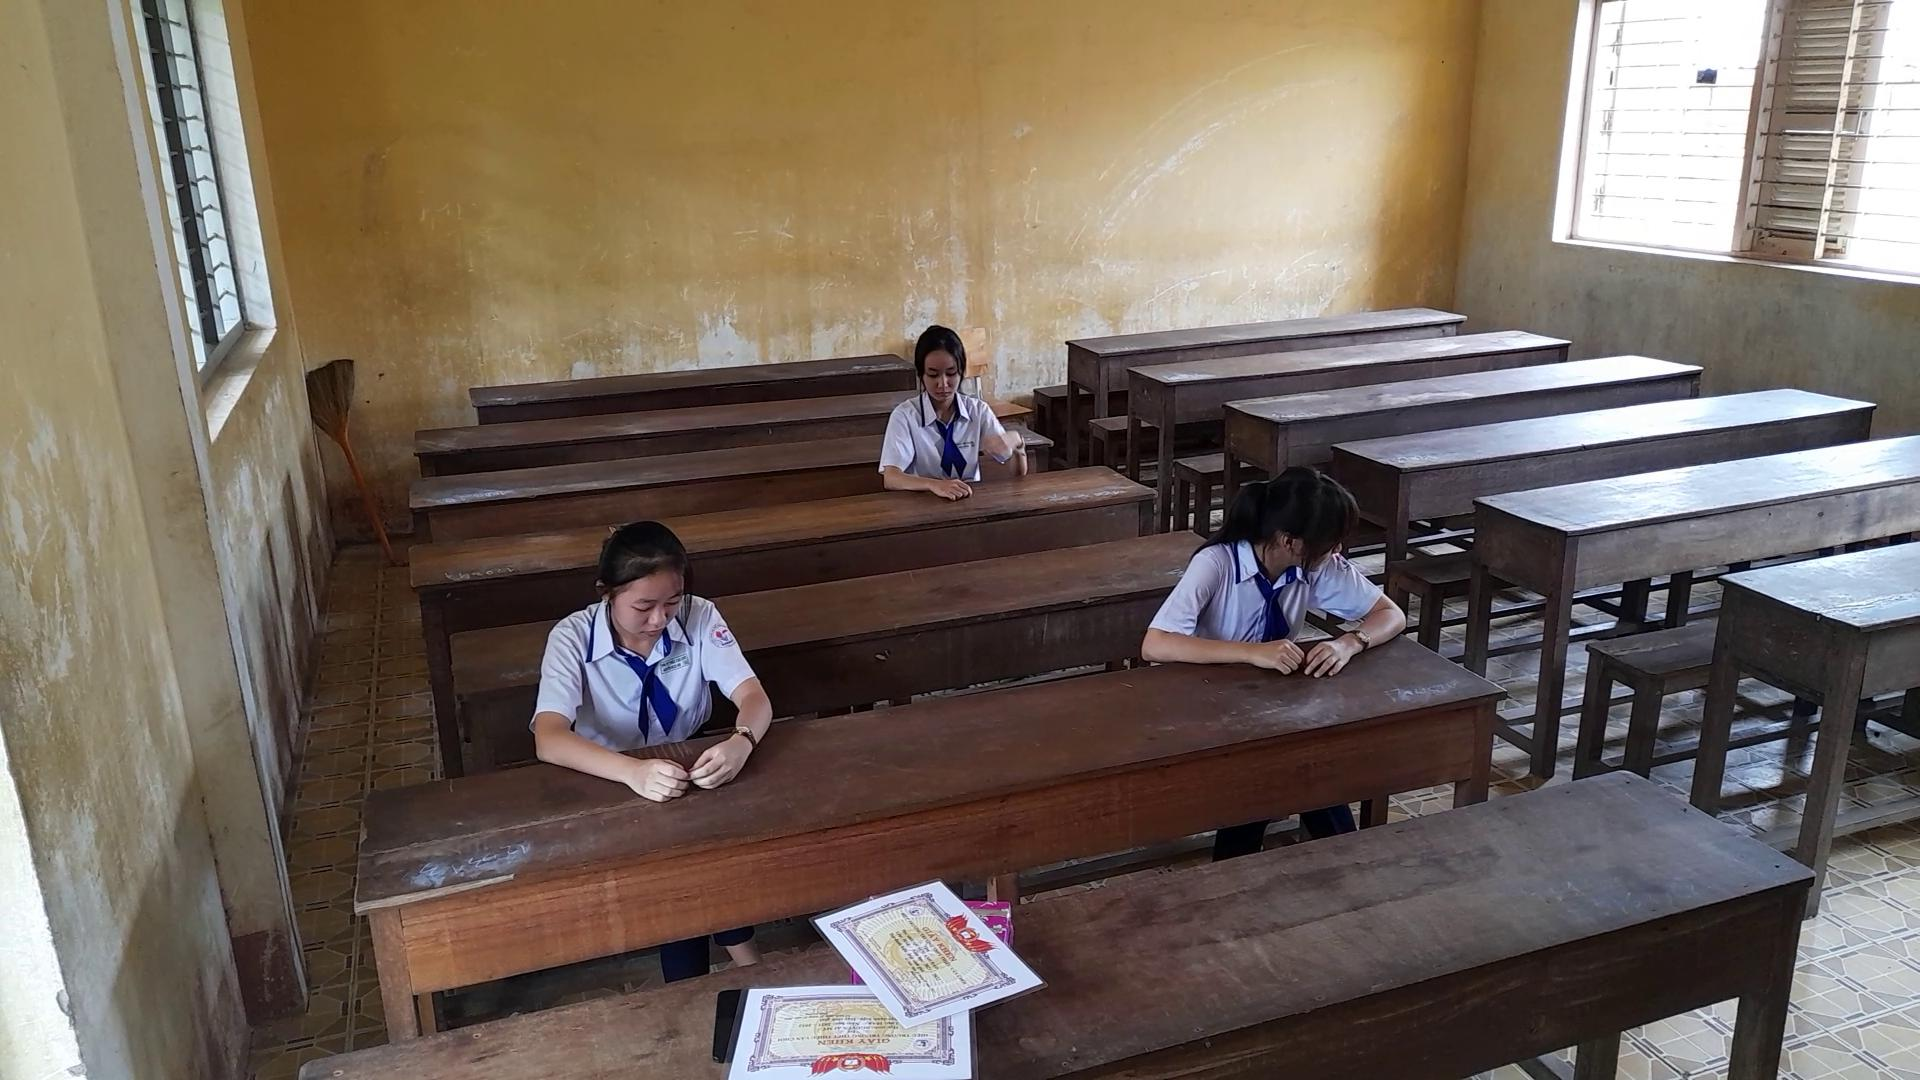Bend Over The Desk: (556, 506, 696, 640)
Look Around: (1213, 447, 1360, 597)
Normal: (865, 320, 1040, 512)
